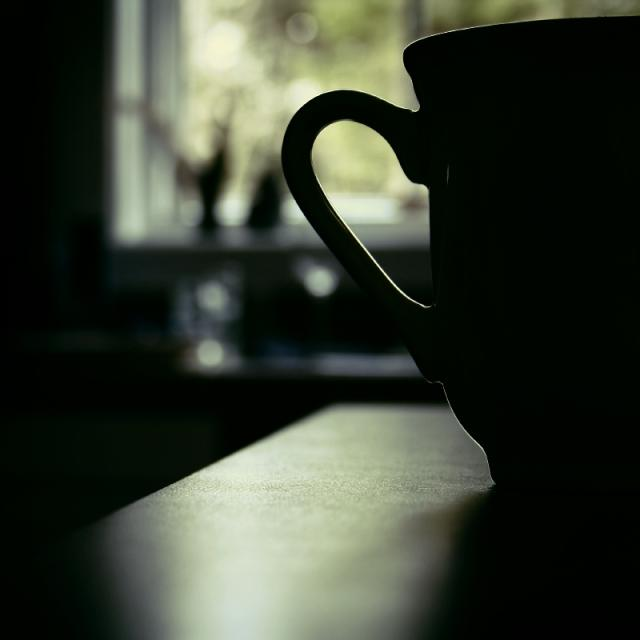Cup: (303, 23, 640, 504)
Table: (0, 356, 640, 640)
